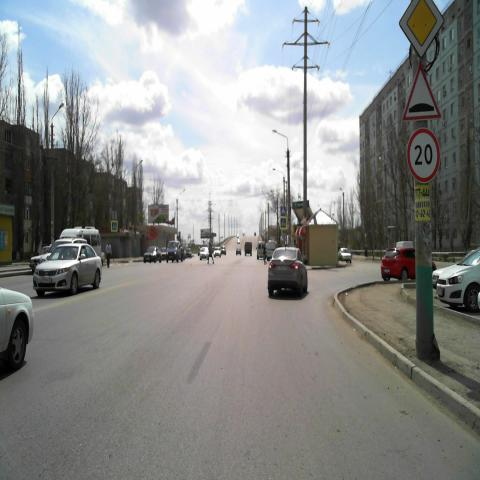1_17: (401, 61, 442, 123)
2_1: (398, 0, 446, 60)
3_24: (406, 127, 440, 183)
5_19_1: (280, 216, 286, 228), (111, 220, 117, 232)
5_20: (280, 206, 286, 216)
